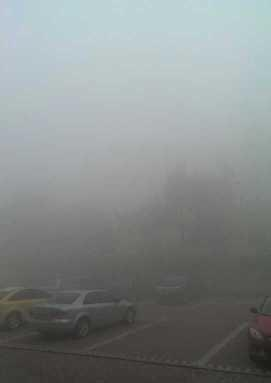car: (26, 289, 137, 338), (1, 286, 62, 332), (247, 290, 271, 355), (153, 274, 193, 306)
